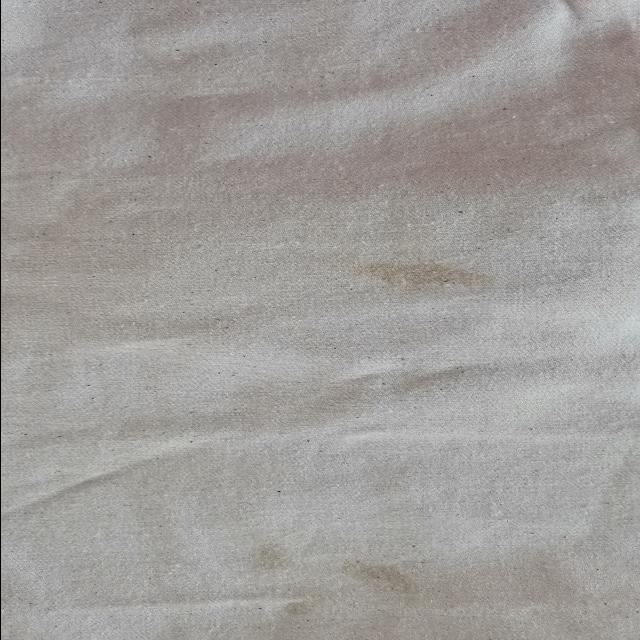taaaches: (326, 260, 488, 294), (331, 558, 439, 607), (233, 542, 303, 578), (272, 598, 316, 624)
